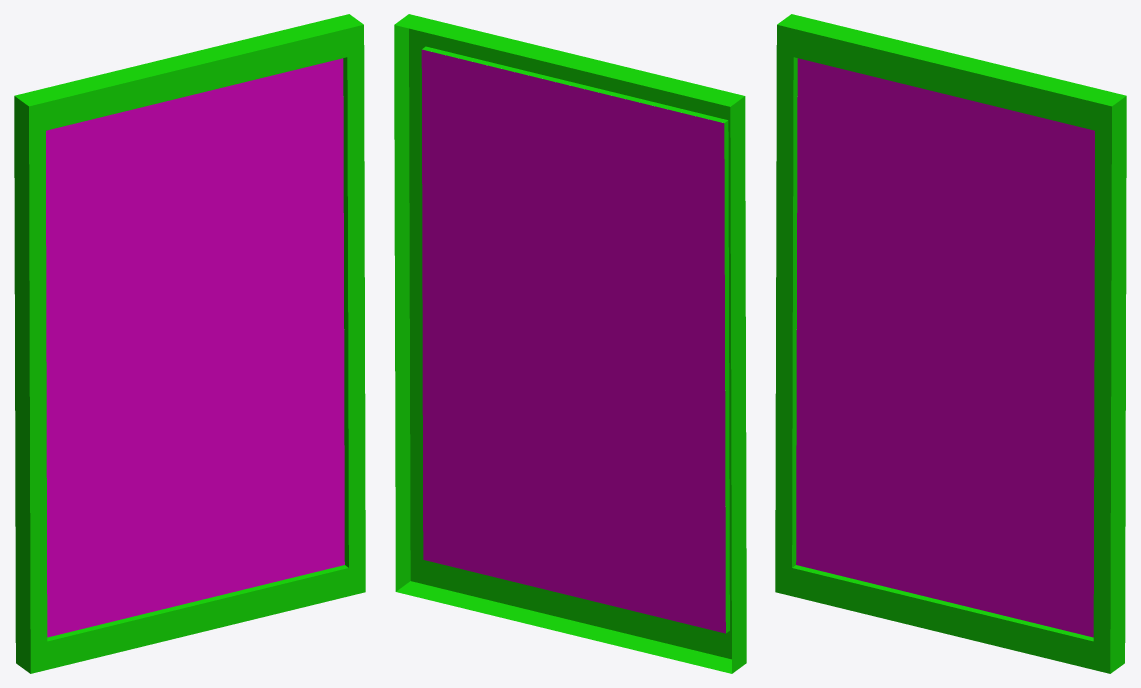
File: SecondaryCameraMonitor.fbx
3 views of the same model, side by side, from view 1: azimuth 30°, elevation 25°; view 2: azimuth 150°, elevation 25°; view 3: azimuth 330°, elevation 25° (orthographic).
Parts seen in each view (by area): view 1: Main Camera 1.002, Left Camera; view 2: Main Camera 1.002, Left Camera; view 3: Main Camera 1.002, Left Camera.
Boxes of the visible parts, x1,y1,x2,y2 form: Main Camera 1.002: [46, 58, 344, 637]; Left Camera: [14, 14, 365, 673]; Main Camera 1.002: [421, 49, 725, 633]; Left Camera: [394, 14, 746, 673]; Main Camera 1.002: [796, 58, 1094, 637]; Left Camera: [775, 14, 1126, 673].
Size of the model in its own units: 374 by 604 by 31.64.
